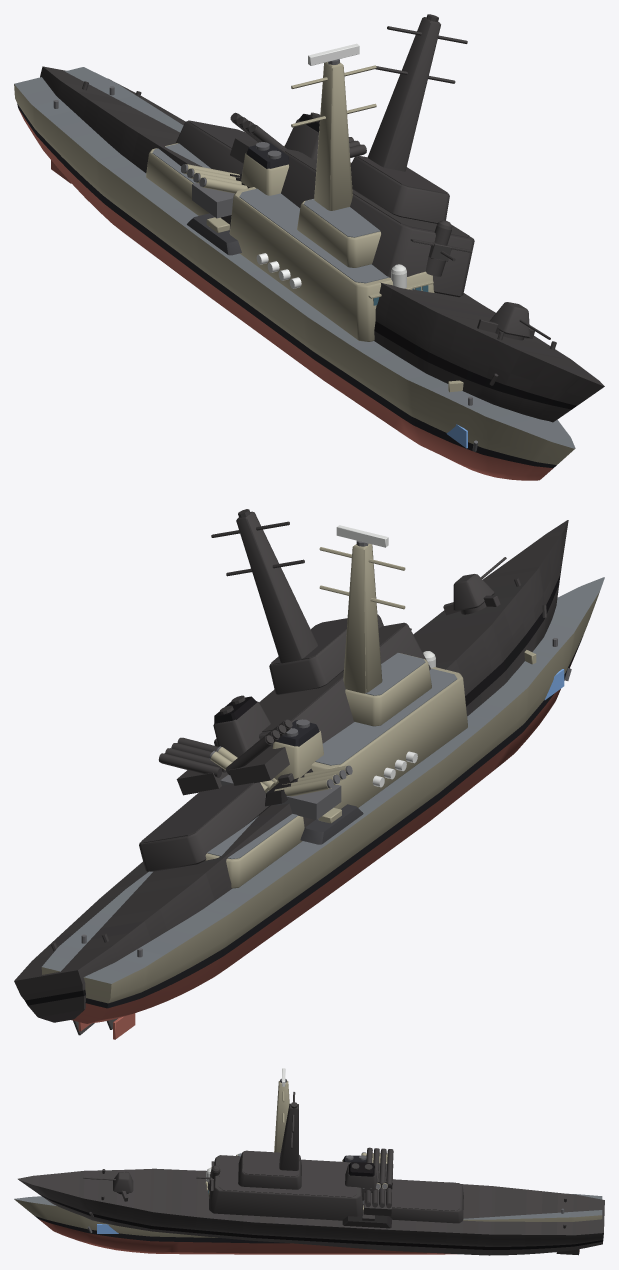
The model's file is missileBoat__sa_ar_4_5.glb.
3 views of the same model, one above another, from view 1: azimuth 30°, elevation 25°; view 2: azimuth 150°, elevation 25°; view 3: azimuth 270°, elevation 25° (orthographic). The views are drawn at different scales.
Parts seen in each view (by area): view 1: Hull_Mesh, Wreck, Radar_Mesh; view 2: Hull_Mesh, Wreck; view 3: Wreck, Hull_Mesh.
Boxes of the visible parts, x1,y1,x2,y2 form: Hull_Mesh: (14,62,575,480); Wreck: (40,14,604,422); Radar_Mesh: (308,43,359,65); Hull_Mesh: (41,543,604,1039); Wreck: (14,509,568,1035); Wreck: (18,1092,604,1255); Hull_Mesh: (14,1080,602,1254).
Size of what is drawn, in the model's own units: 14.39 by 21.4 by 64.91.
